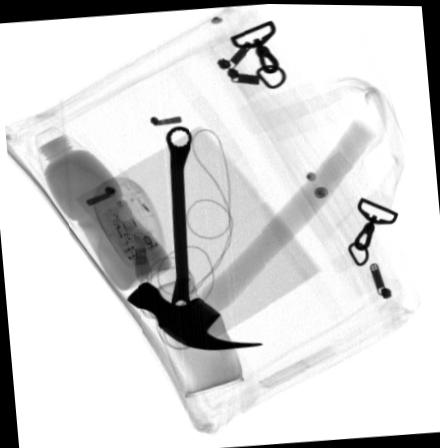Hammer: (122, 116, 377, 349)
Wrench: (164, 124, 192, 319)
